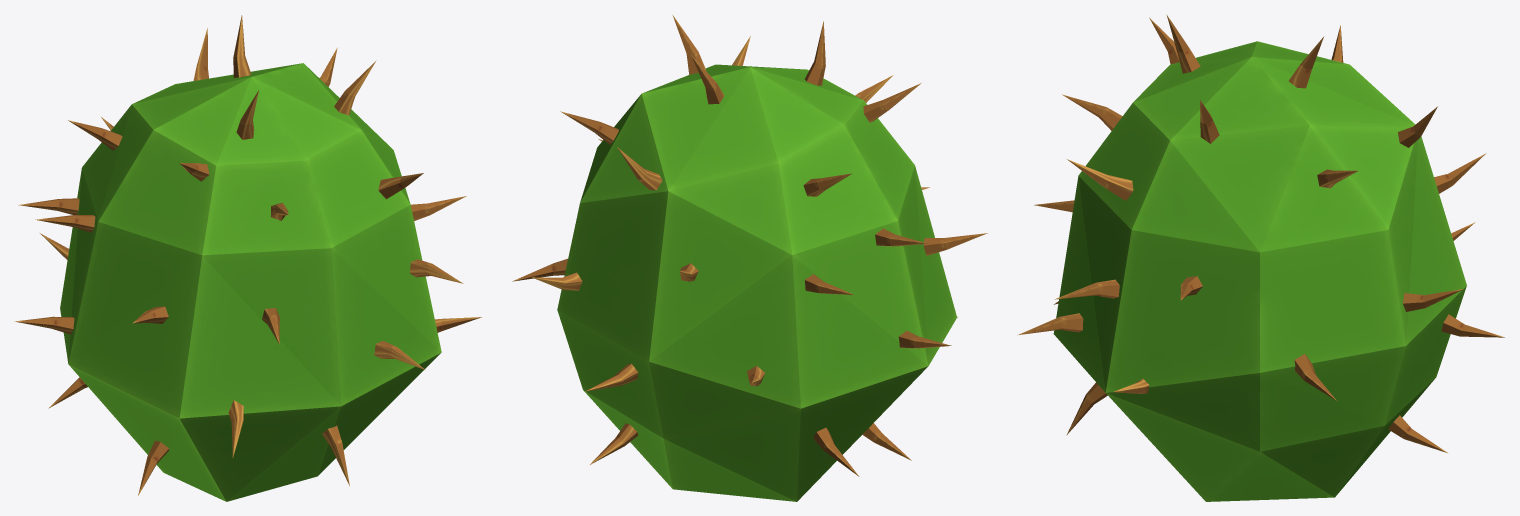
Rendered from Cactus_6.fbx.
The picture shows the model from 3 angles, left to right: view 1: azimuth 30°, elevation 25°; view 2: azimuth 150°, elevation 25°; view 3: azimuth 270°, elevation 25°; orthographic projection. The views are drawn at different scales.
Parts seen in each view (by area): view 1: Cactus_6; view 2: Cactus_6; view 3: Cactus_6.
Part boxes in pixels (box(x1,y1,x2,y2)): Cactus_6: box(14, 15, 481, 501); Cactus_6: box(512, 15, 987, 501); Cactus_6: box(1017, 15, 1504, 501).
Bounding box in the file's own units: 19.6 × 19.42 × 18.88.
